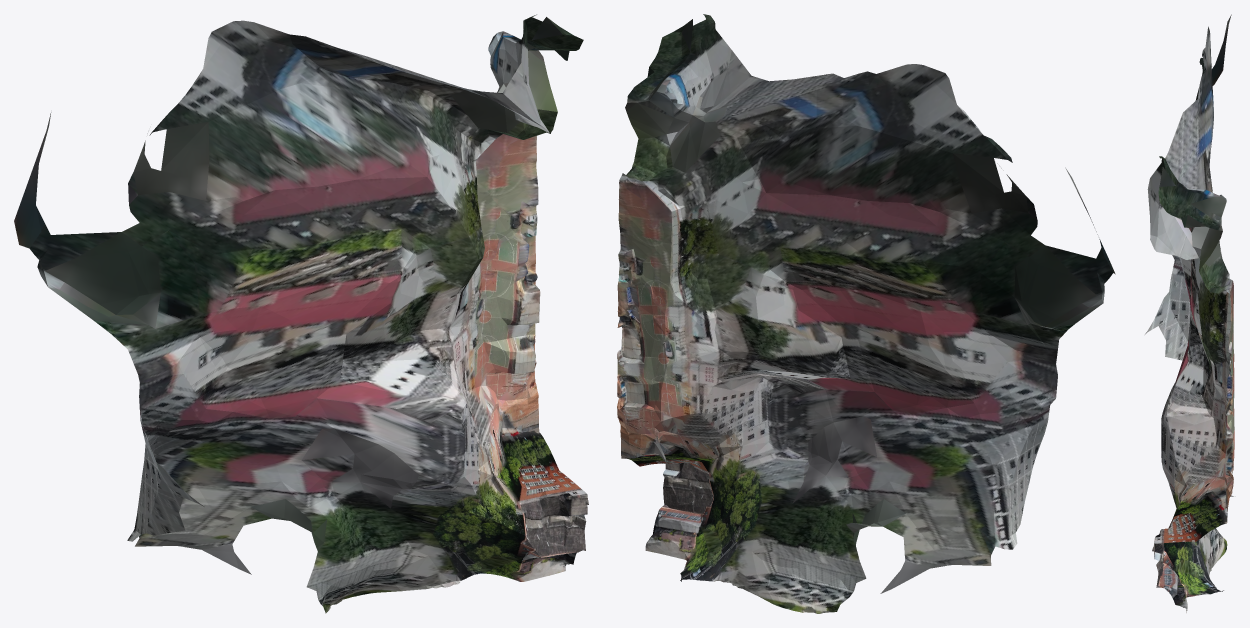
File: Tile_+000_+003.glb
The picture shows the model from 3 angles, left to right: view 1: azimuth 30°, elevation 25°; view 2: azimuth 150°, elevation 25°; view 3: azimuth 270°, elevation 25°; orthographic projection. The views are drawn at different scales.
Visible parts, largest first — view 1: Node; view 2: Node; view 3: Node.
Boxes of the visible parts, x1,y1,x2,y2 form: Node: [14, 14, 588, 613]; Node: [617, 14, 1115, 613]; Node: [1145, 14, 1234, 612].
Bounding box in the file's own units: 156 × 173 × 30.75.
1 material, 1 textured.
